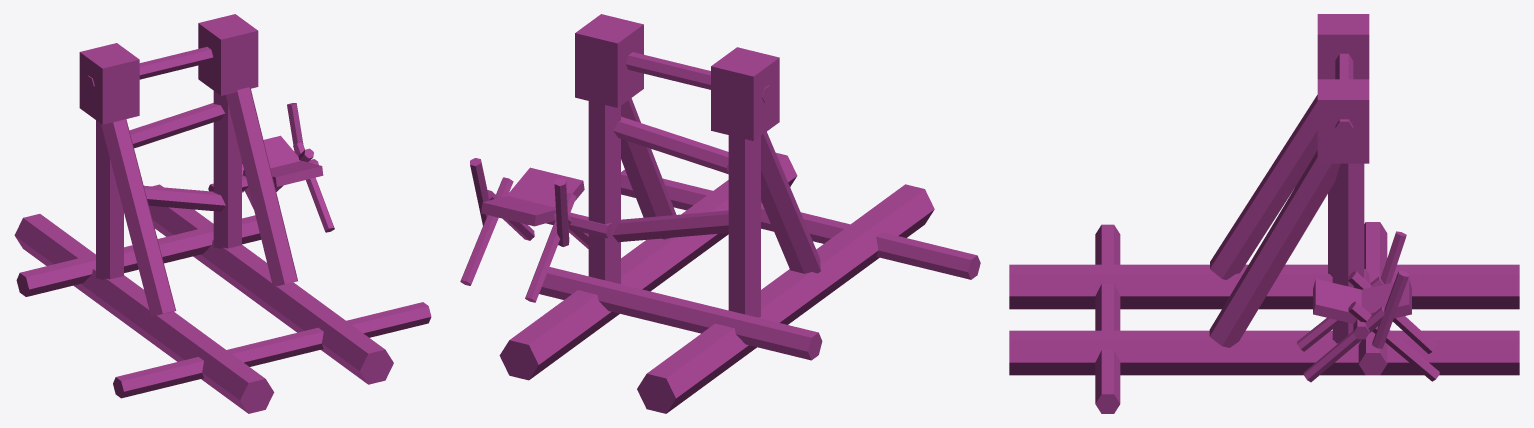
The model's file is SM_Veh_Trebuchet_01_Collision.fbx.
The picture shows the model from 3 angles, left to right: view 1: azimuth 30°, elevation 25°; view 2: azimuth 150°, elevation 25°; view 3: azimuth 270°, elevation 25°; orthographic projection. The views are drawn at different scales.
Visible parts, largest first — view 1: SM_Veh_Trebuchet_01_Collision; view 2: SM_Veh_Trebuchet_01_Collision; view 3: SM_Veh_Trebuchet_01_Collision.
Boxes of the visible parts, x1,y1,x2,y2 form: SM_Veh_Trebuchet_01_Collision: (14,14,431,413); SM_Veh_Trebuchet_01_Collision: (460,14,980,413); SM_Veh_Trebuchet_01_Collision: (1009,14,1519,413).
Size of the model in its own units: 510 by 390 by 643.
